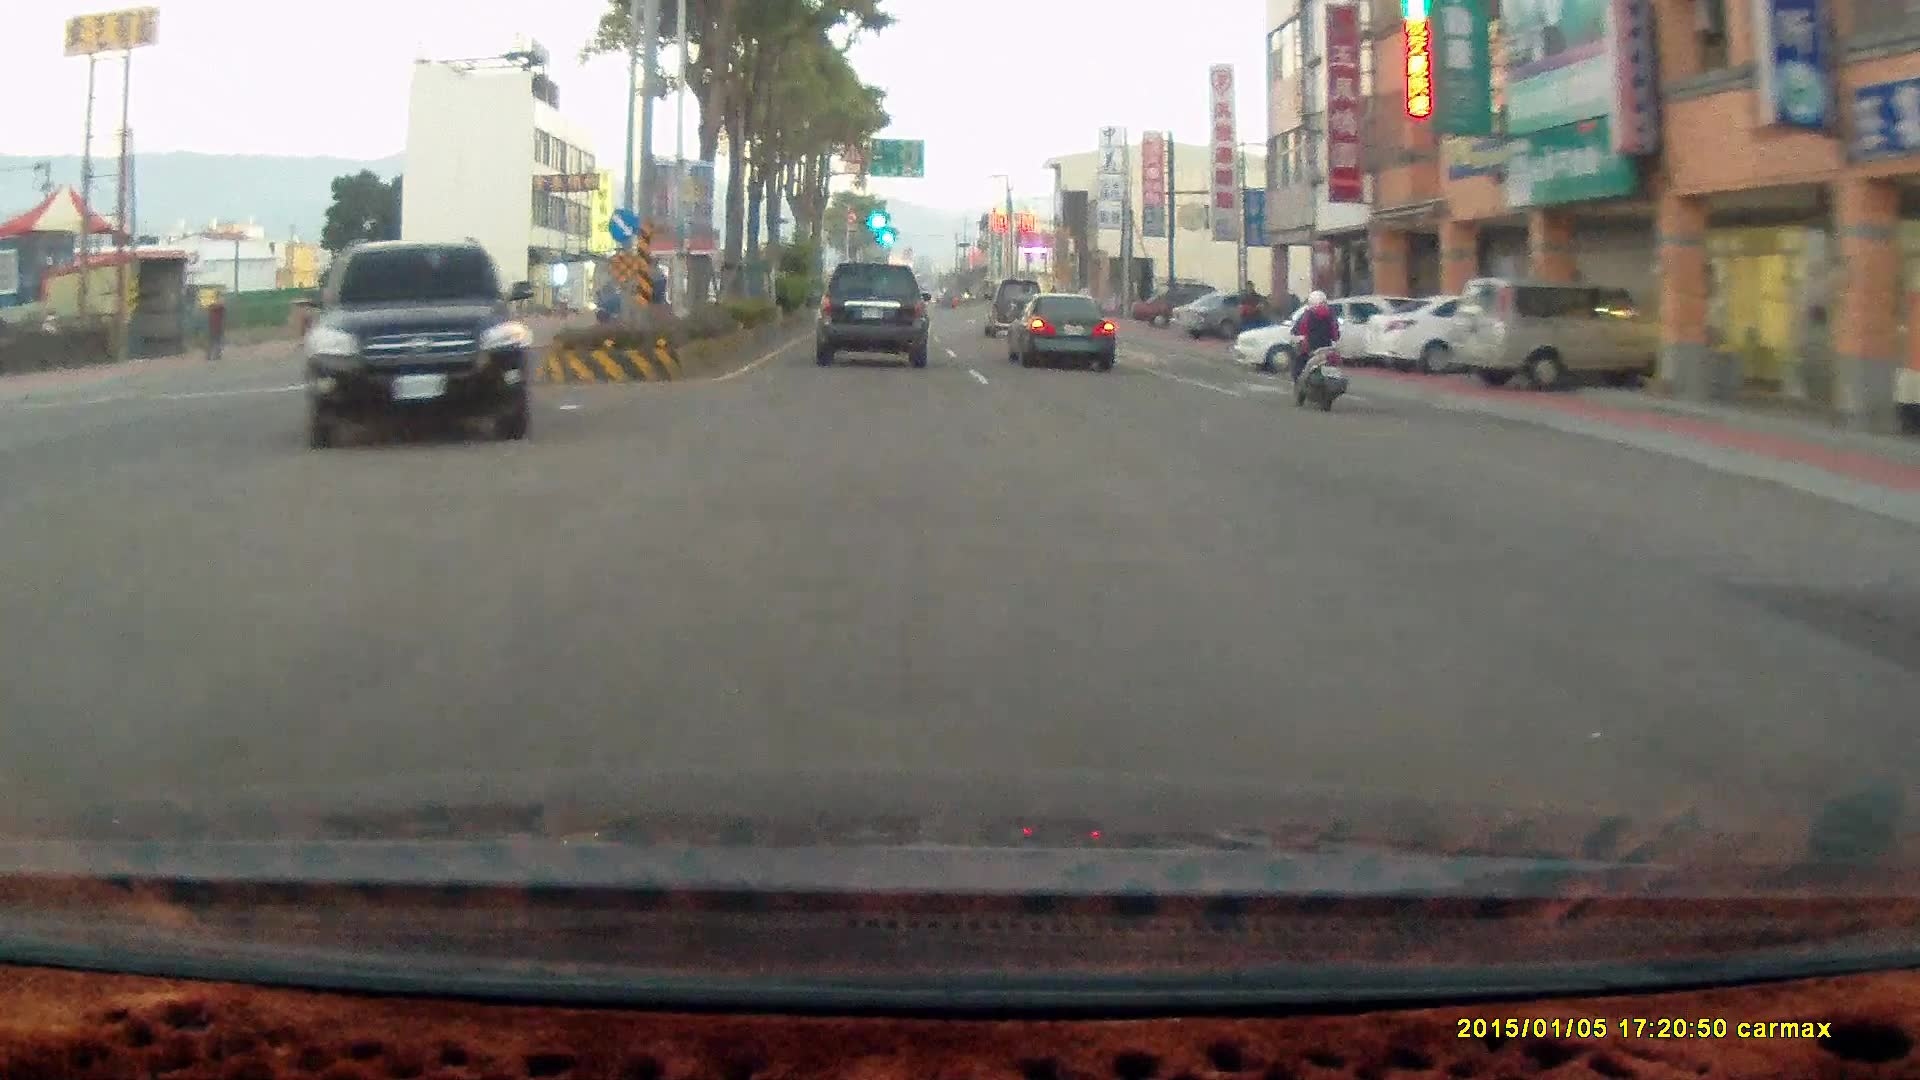pedestrian: (1235, 279, 1264, 347), (203, 290, 227, 363)
rider: (1274, 283, 1358, 419), (1285, 291, 1349, 414)
vehicle: (294, 239, 537, 447), (306, 237, 537, 450), (1443, 277, 1685, 389), (1469, 280, 1664, 399), (1361, 296, 1566, 382), (1363, 291, 1570, 375), (1236, 302, 1428, 378), (1232, 295, 1413, 374), (811, 260, 936, 372), (814, 262, 931, 367), (1007, 301, 1126, 380), (1005, 290, 1114, 371), (1169, 292, 1276, 338), (980, 279, 1047, 338), (1130, 288, 1220, 326)
